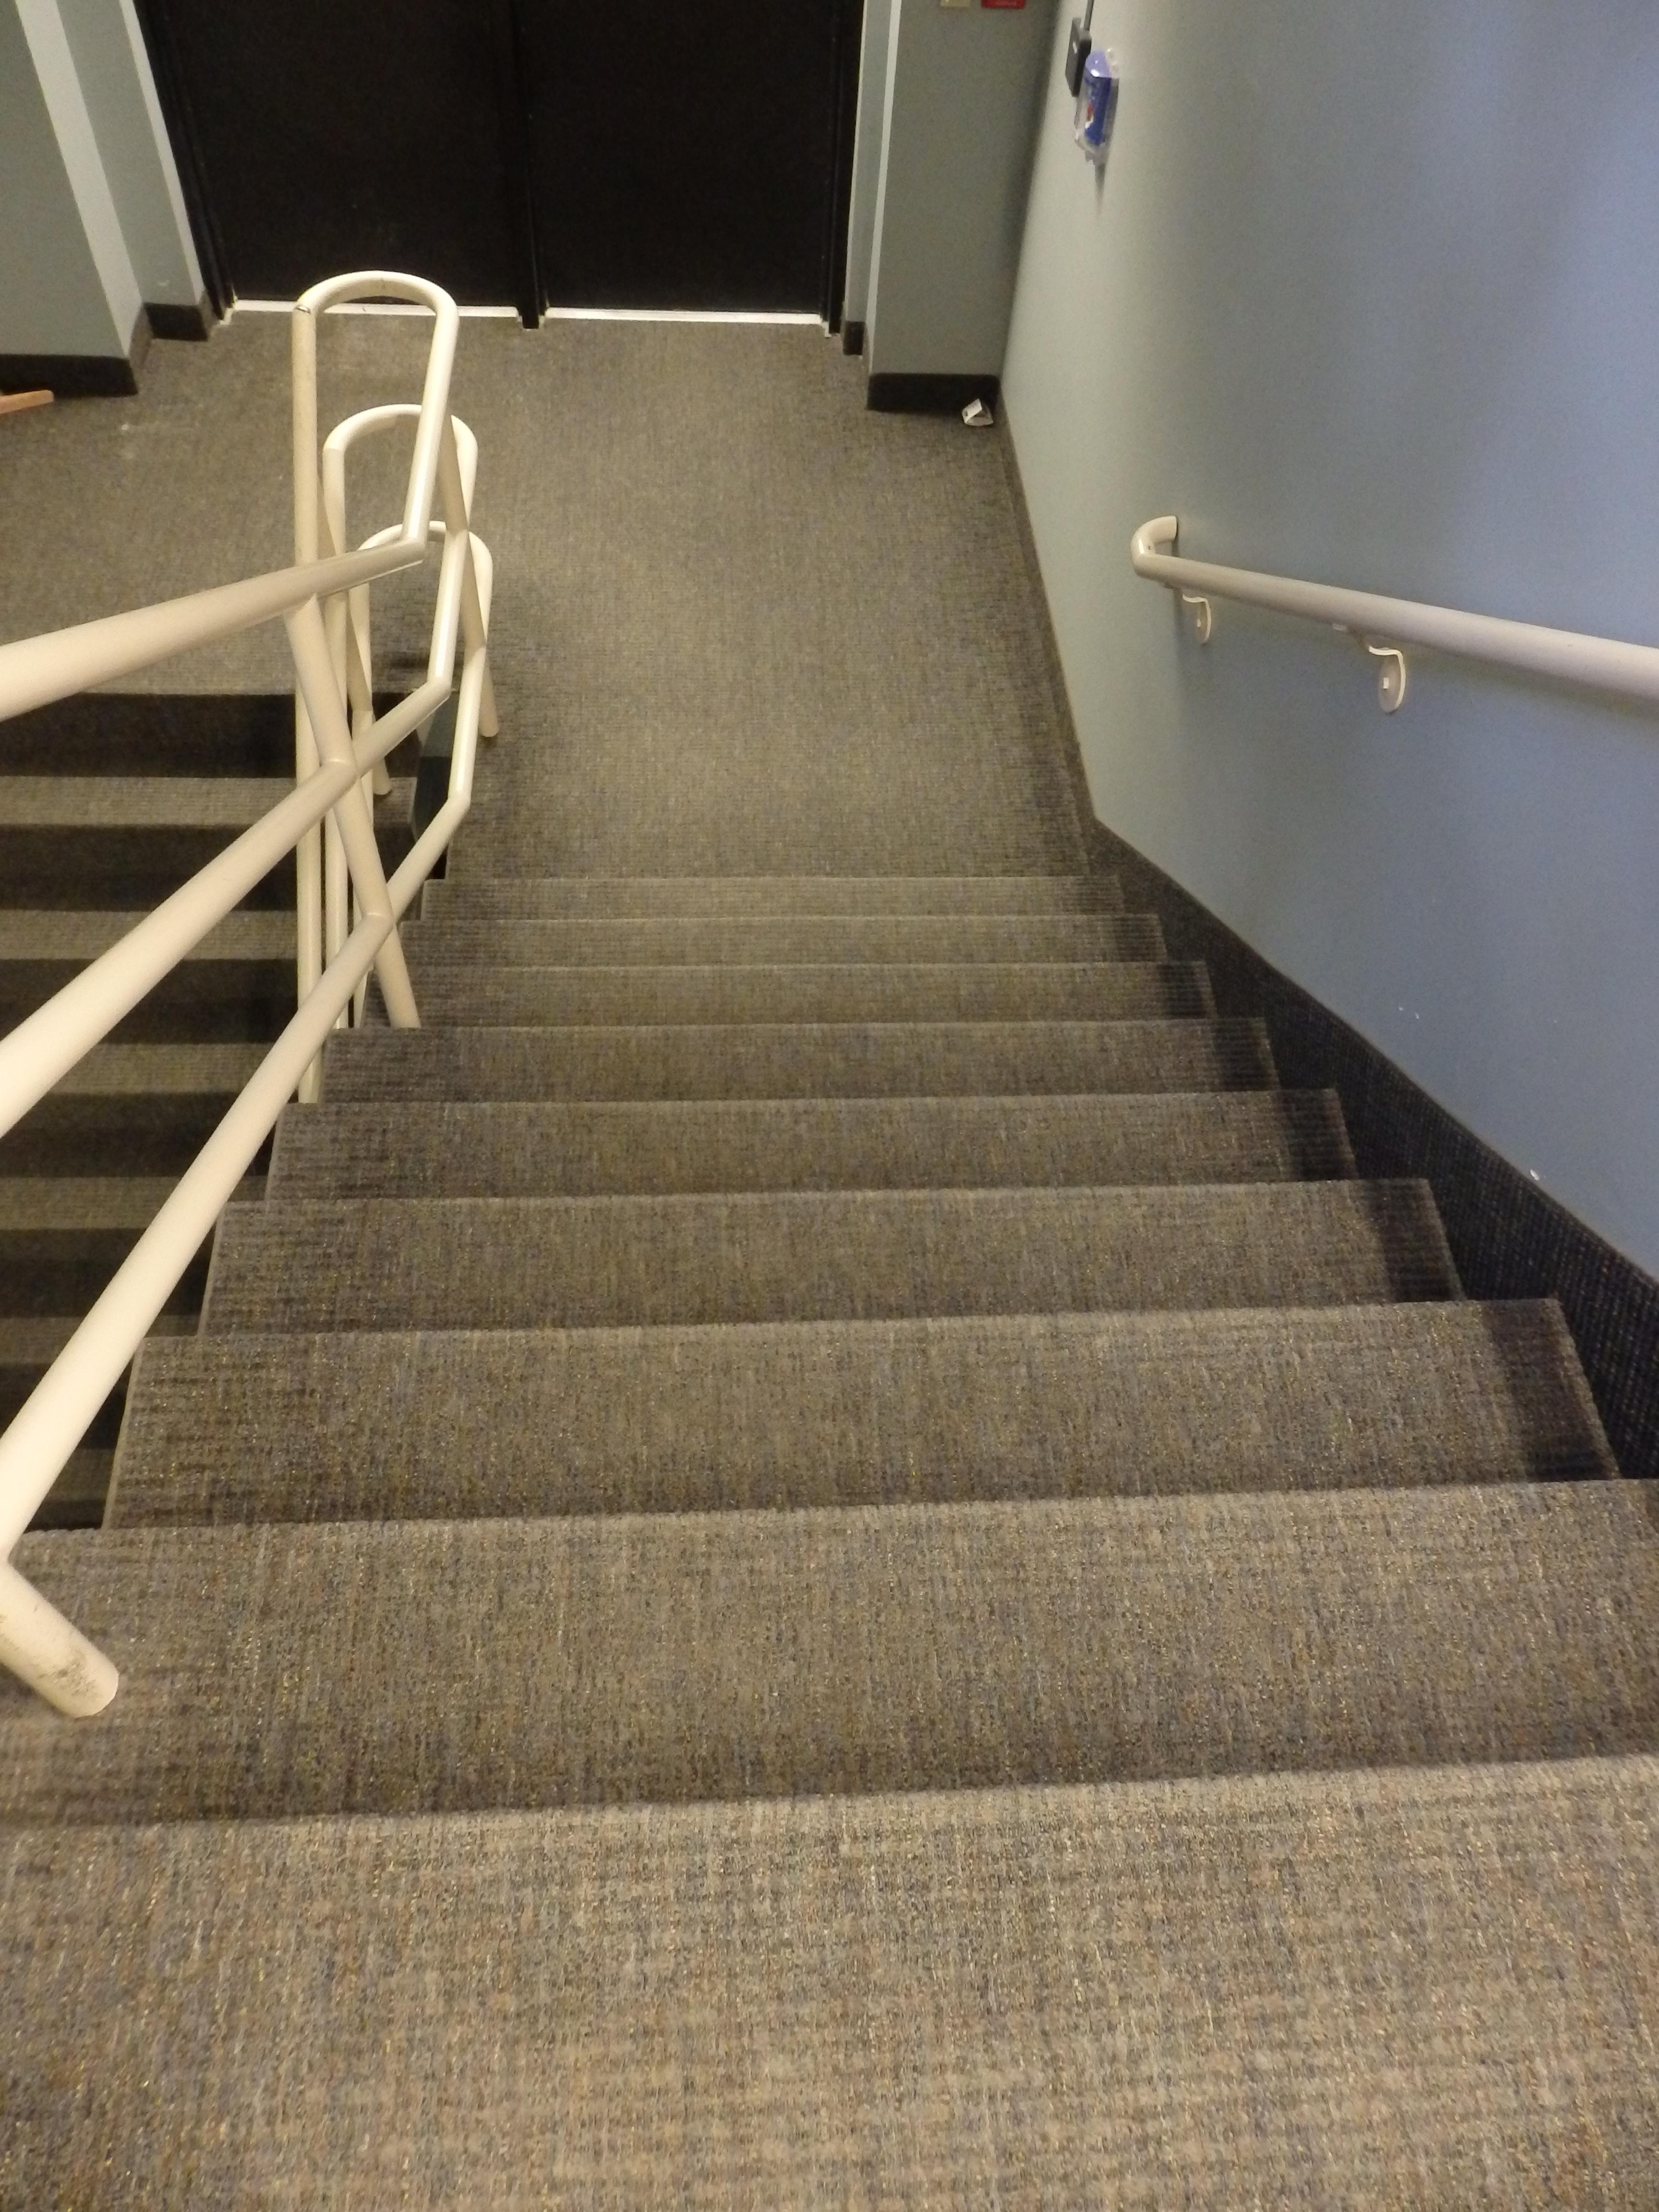stairs_down: (125, 749, 1499, 1947)
